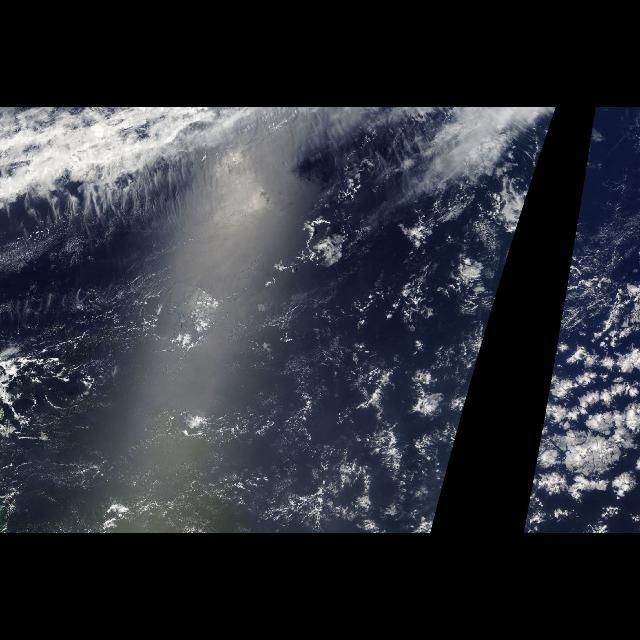Flower: (522, 301, 634, 531)
